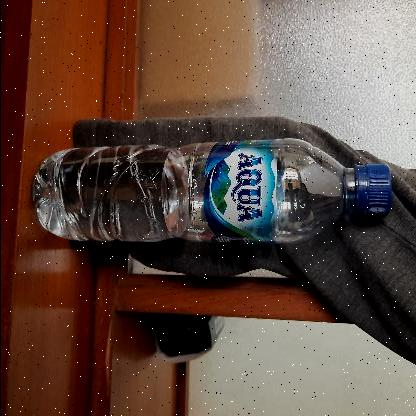Plastic Bottle: (27, 138, 395, 250)
